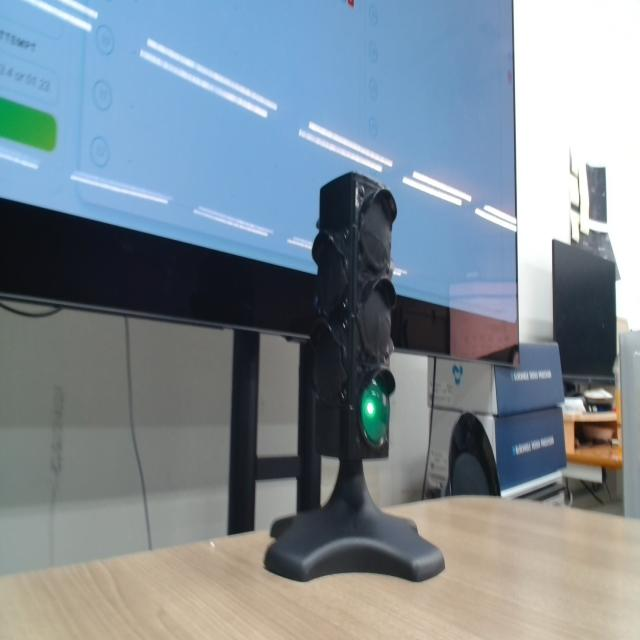green_light: (361, 380, 389, 446)
